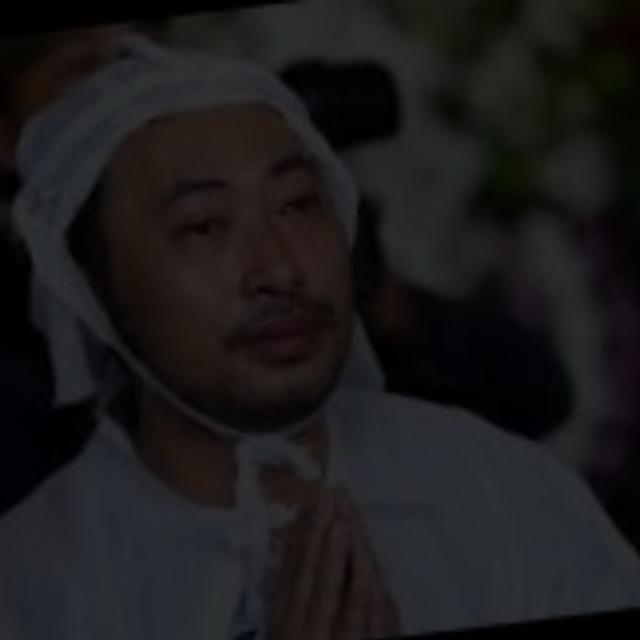Sad: (63, 56, 368, 426)
